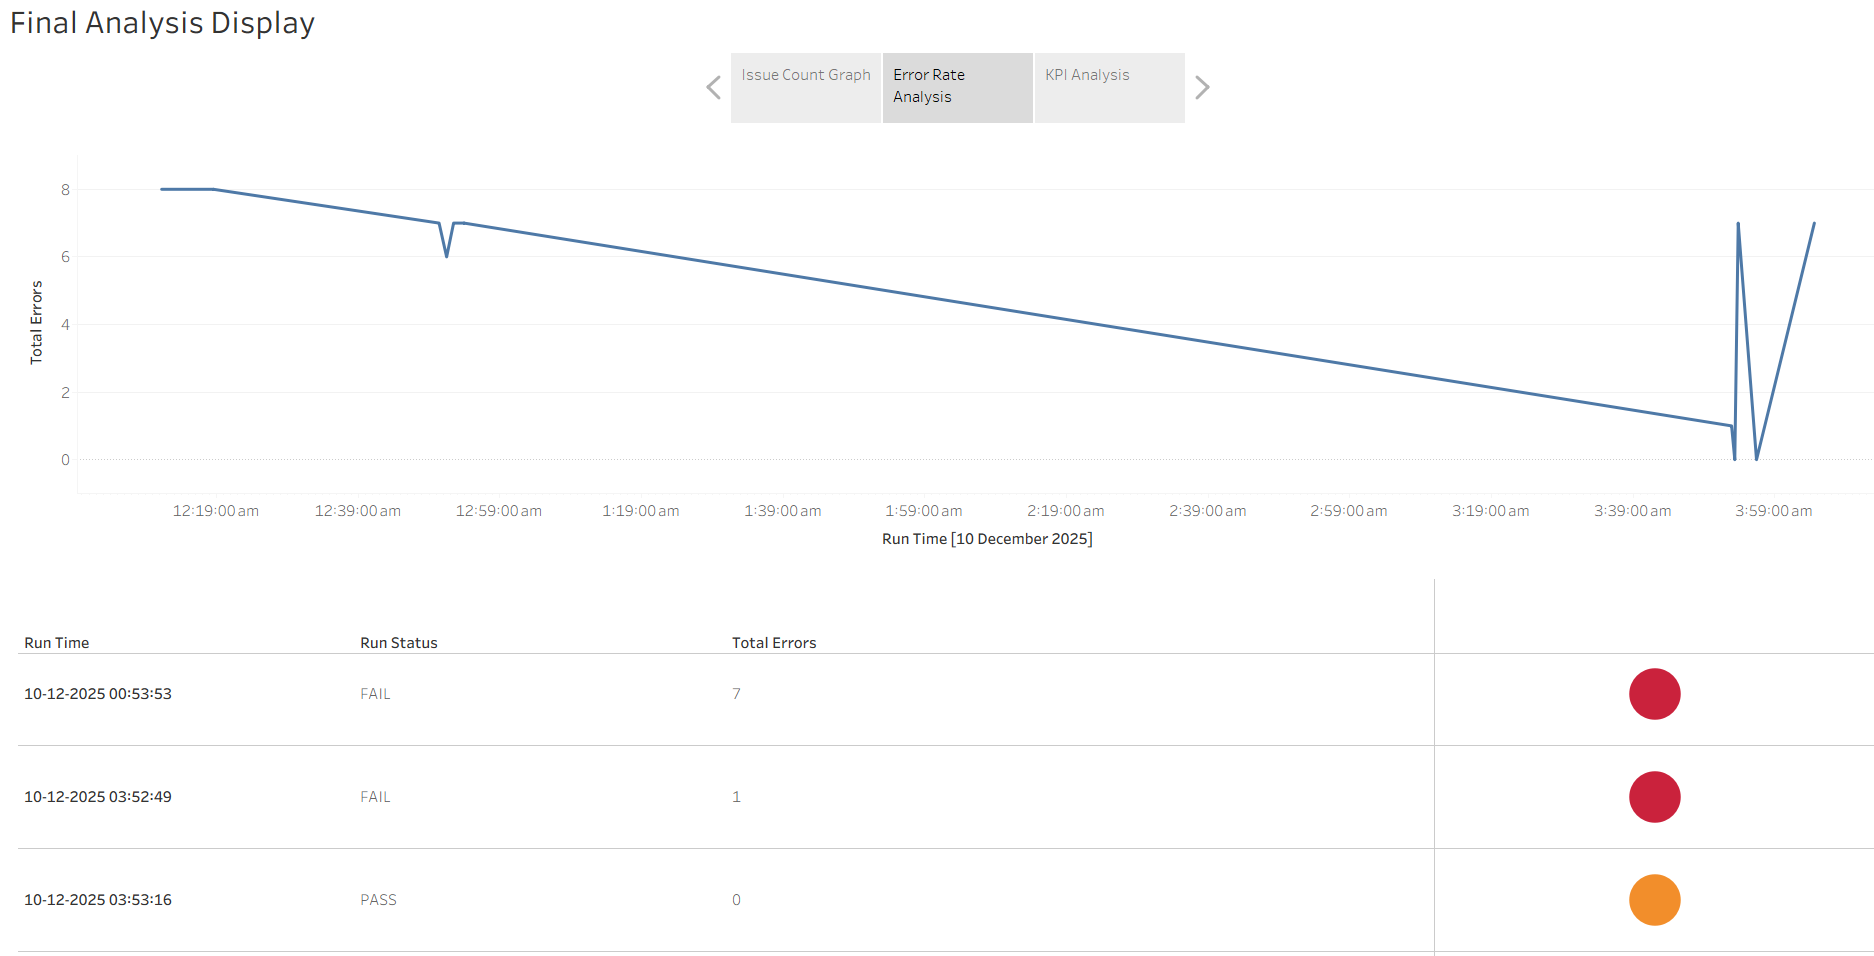

The page's visual inventory and layout, read from the dashboard file:
{"tool":"tableau","page":{"name":"Dashboard 2","canvas":[1000,1000],"units":"permille","ordinal":1},"visuals":[{"type":"worksheet","title":"Runtime X Total errors graph","mark":"Automatic","rows":["total_errors"],"cols":["run_time"],"box":[4.8,10,990.3,490]},{"type":"worksheet","title":"RuntimeXStatusXError Table","mark":"Circle","rows":["run_time","run_status","total_errors"],"box":[4.8,500,990.3,490]}]}

Visuals, with their boxes on the dashboard's canvas, which has no fixed pixel size, in thousandths of its width and height (x1, y1, x2, y2). These are canvas units, not pixel positions in the 1874x956 screenshot, which may show the page scaled, cropped or inside an application window:
"Runtime X Total errors graph" worksheet: [left=5, top=10, right=995, bottom=500]
"RuntimeXStatusXError Table" worksheet (Circle marks): [left=5, top=500, right=995, bottom=990]
